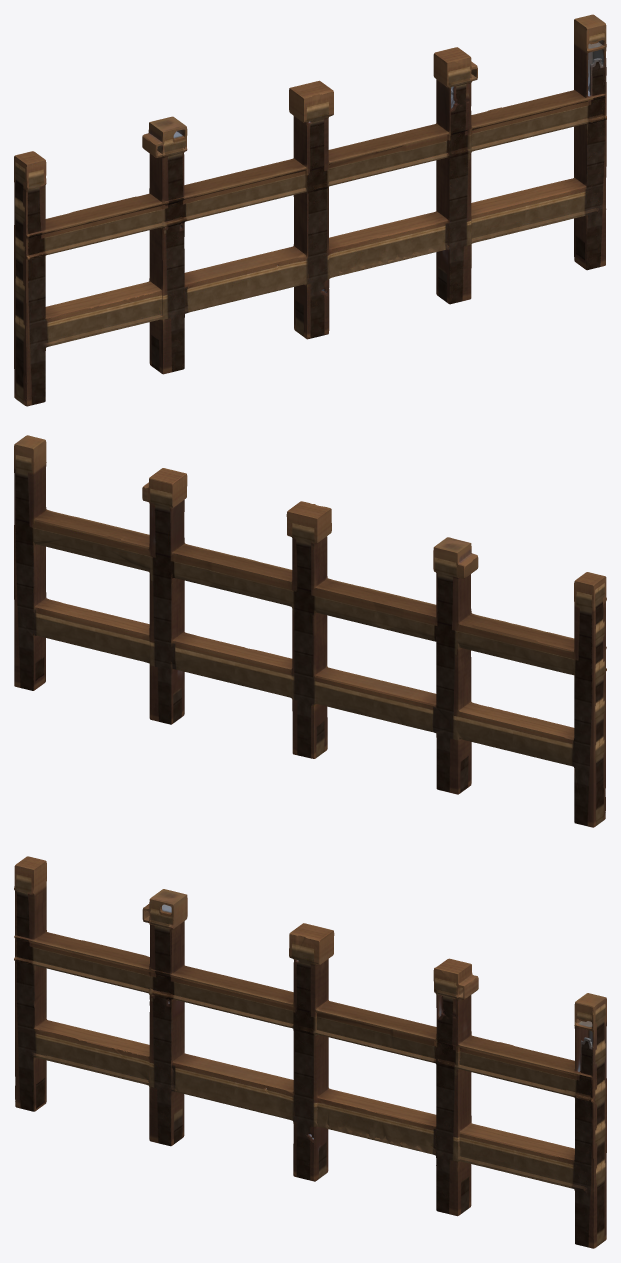
File: scene-2-objects-6-glbData-eebd86f6739e.glb
3 views of the same model, one above another, from view 1: azimuth 30°, elevation 25°; view 2: azimuth 150°, elevation 25°; view 3: azimuth 330°, elevation 25° (orthographic).
Visible parts, largest first — view 1: Fence_Optimized; view 2: Fence_Optimized; view 3: Fence_Optimized.
Boxes of the visible parts, x1,y1,x2,y2 form: Fence_Optimized: [14, 14, 606, 406]; Fence_Optimized: [14, 435, 606, 827]; Fence_Optimized: [14, 856, 606, 1248].
Bounding box in the file's own units: 4 × 1.6 × 0.179.
Materials: 1 (1 with a texture image).
